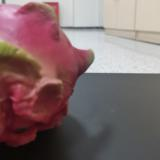pitaya: (1, 2, 95, 147)
